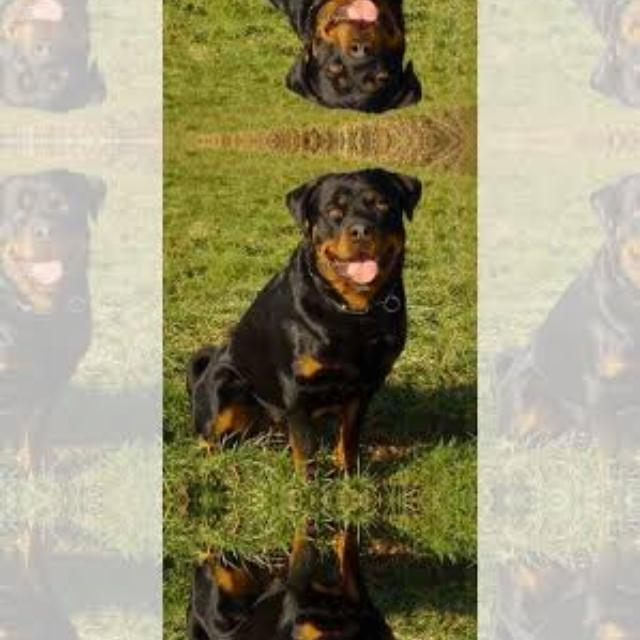dog: (262, 158, 436, 312), (261, 0, 436, 122)
